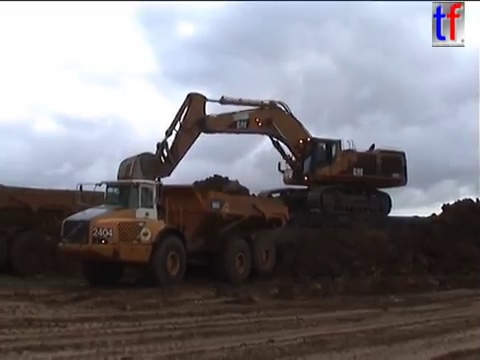excavator: (113, 89, 411, 221)
truck: (55, 175, 294, 288), (1, 180, 169, 280)
